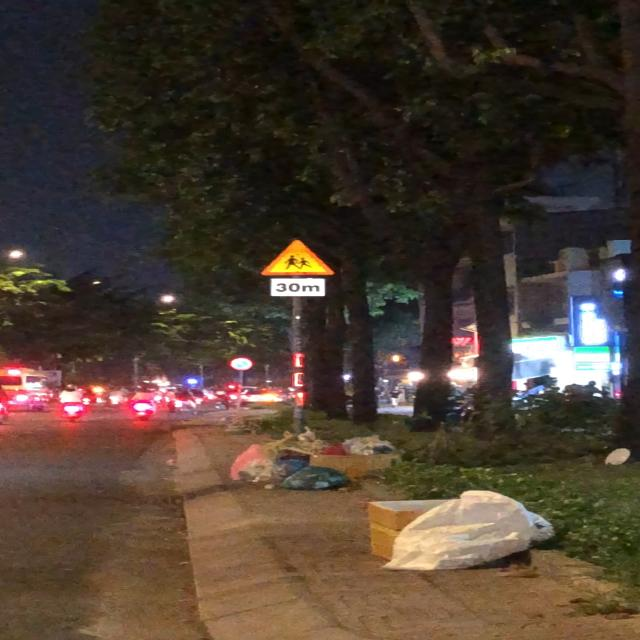Bien bao tre em: (257, 237, 331, 278)
